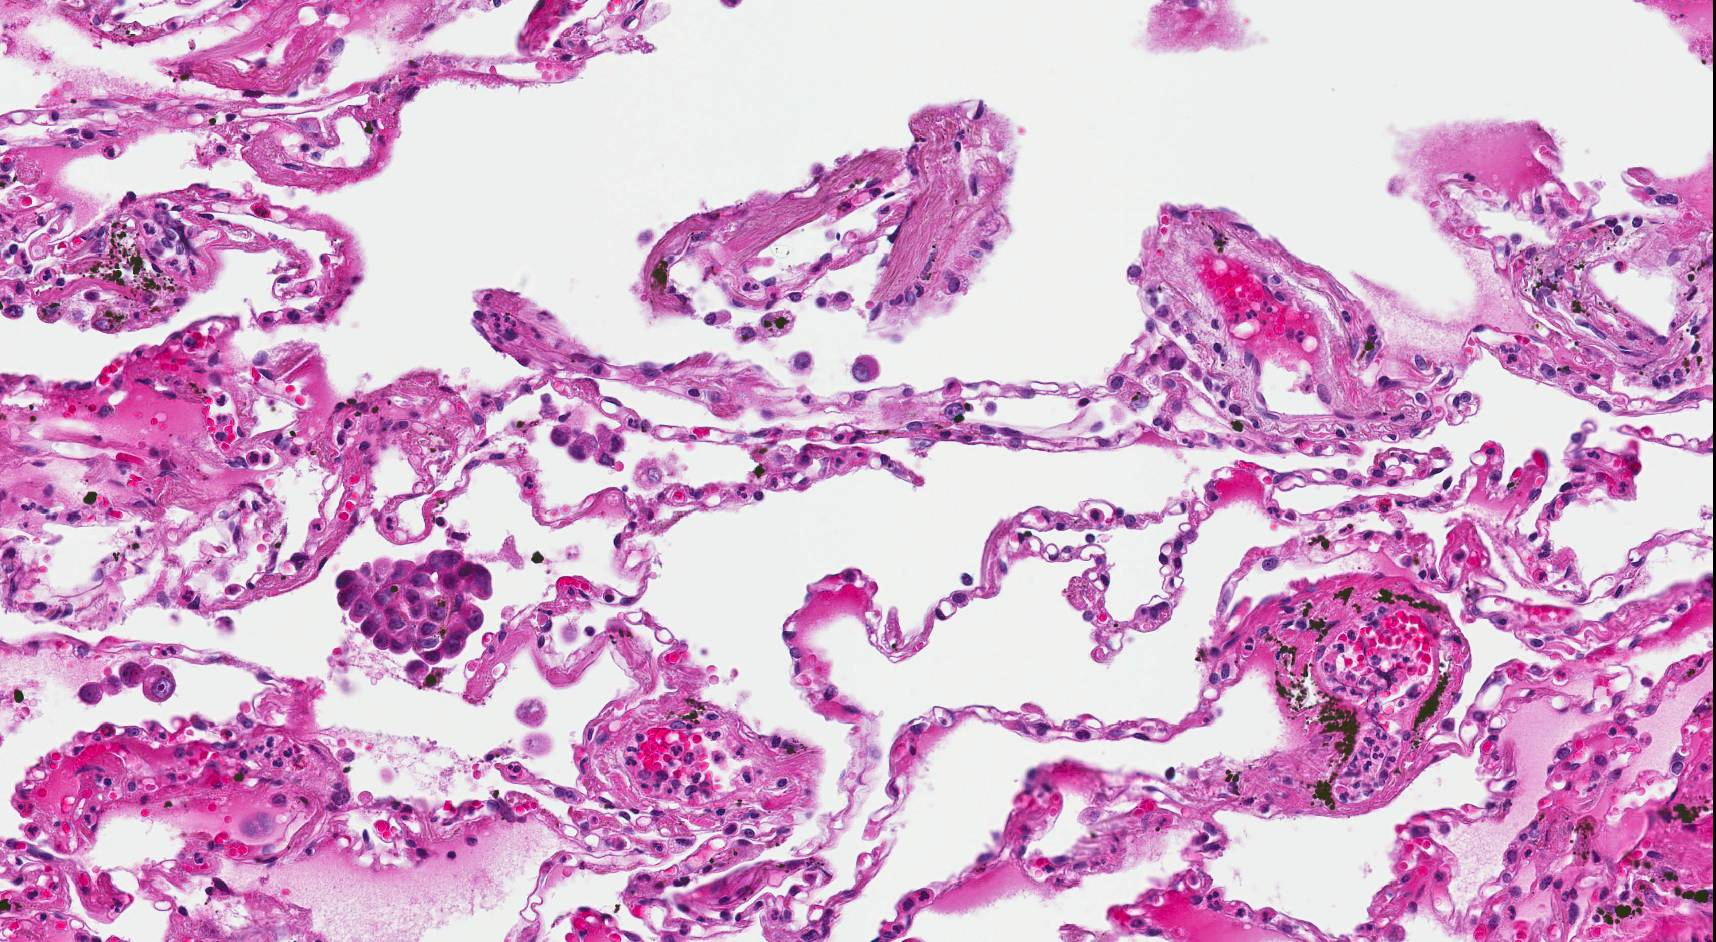stas: (336, 549, 494, 687), (549, 424, 631, 469), (141, 663, 176, 701)
